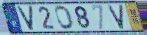2: (39, 5, 56, 30)
7: (91, 4, 105, 31)
8: (74, 5, 92, 30)
O: (55, 5, 75, 31)
V: (16, 5, 35, 32), (107, 4, 125, 31)
